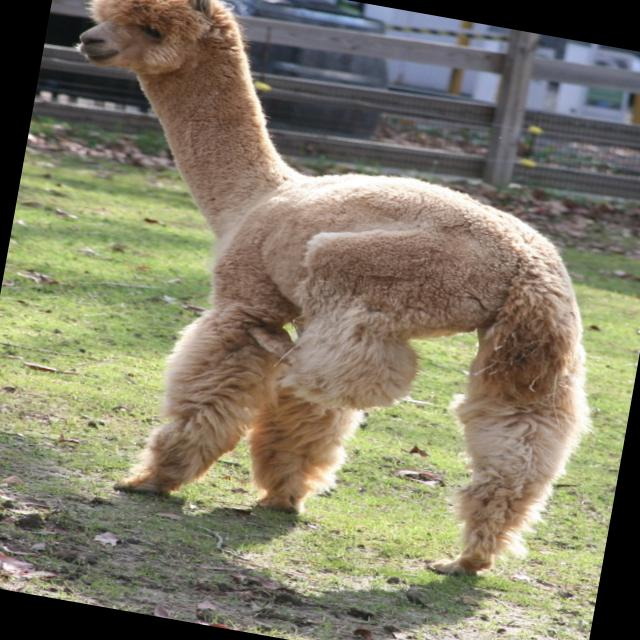alpaca: (1, 0, 640, 592)
